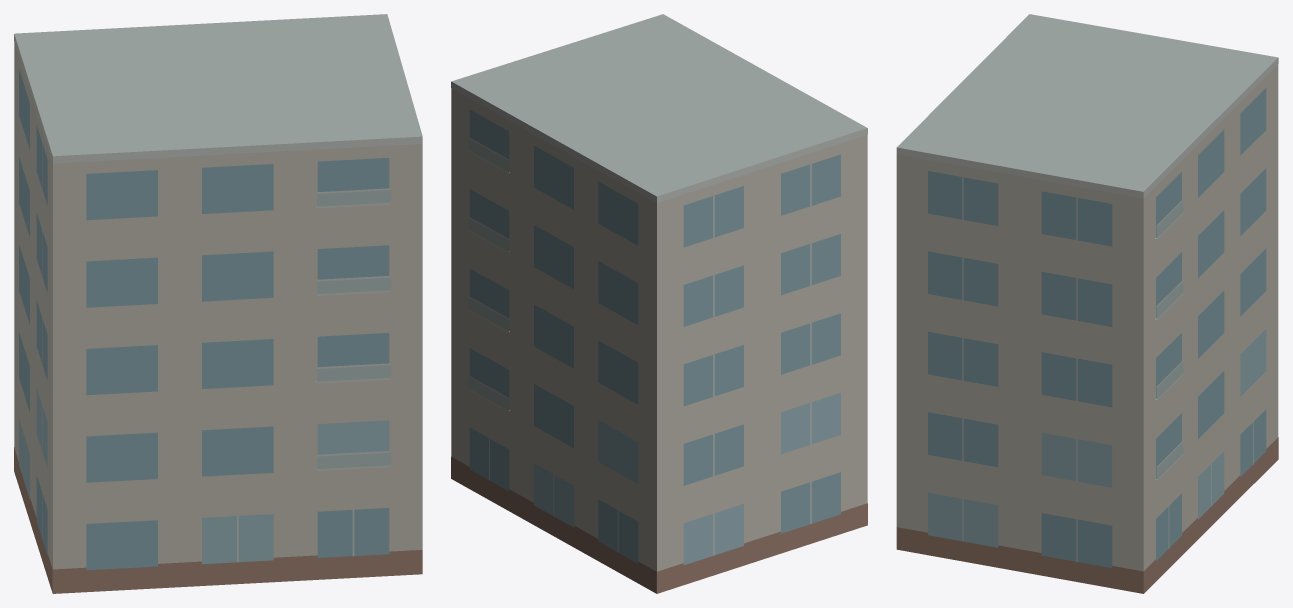
File: survey-upis-32803152.glb
The picture shows the model from 3 angles, left to right: view 1: azimuth 30°, elevation 25°; view 2: azimuth 150°, elevation 25°; view 3: azimuth 270°, elevation 25°; orthographic projection. The views are drawn at different scales.
Visible parts, largest first — view 1: survey-upis-32803152.tmp; view 2: survey-upis-32803152.tmp; view 3: survey-upis-32803152.tmp.
Boxes of the visible parts, bbox=[...] form: survey-upis-32803152.tmp: bbox=[14, 14, 422, 593]; survey-upis-32803152.tmp: bbox=[451, 14, 867, 593]; survey-upis-32803152.tmp: bbox=[896, 14, 1278, 593].
Bounding box in the file's own units: 13.95 × 14.7 × 12.66.
